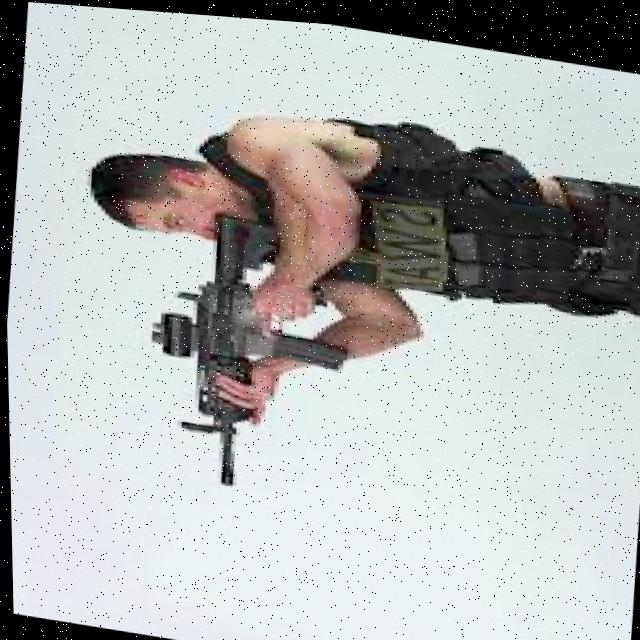firearm: (138, 197, 365, 501)
